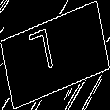L_S: (40, 26, 70, 84)
